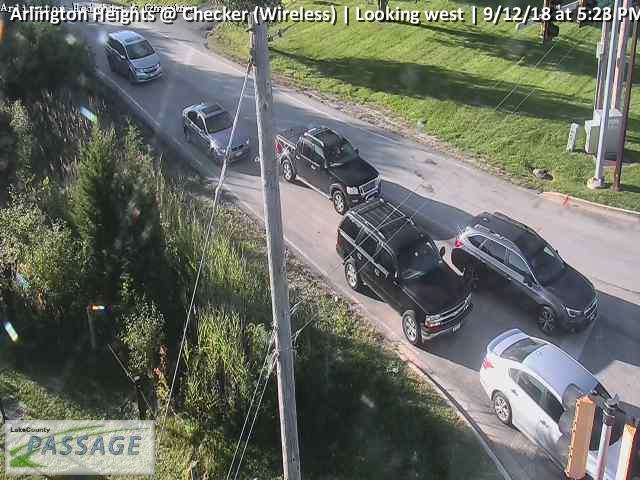SUV: (333, 198, 476, 349), (451, 212, 599, 341)
Sedan: (478, 327, 640, 480), (180, 101, 250, 164), (102, 29, 164, 84)
Truck: (274, 125, 385, 215)
